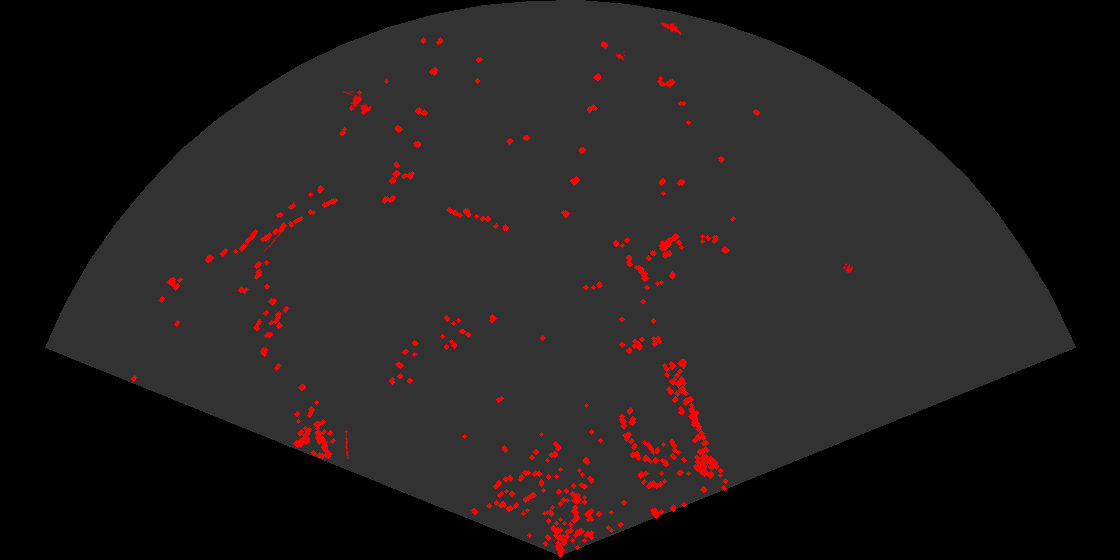AUV: (614, 51, 625, 64)
ball: (841, 262, 855, 274)
cage: (343, 91, 373, 117)
chain: (264, 232, 282, 252), (343, 429, 350, 459)
frogman: (660, 21, 681, 37)
